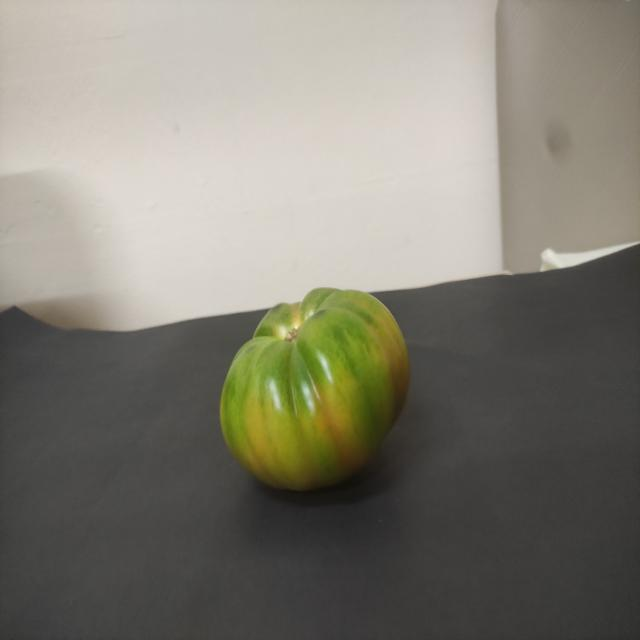unripe tomato: (202, 278, 435, 502)
